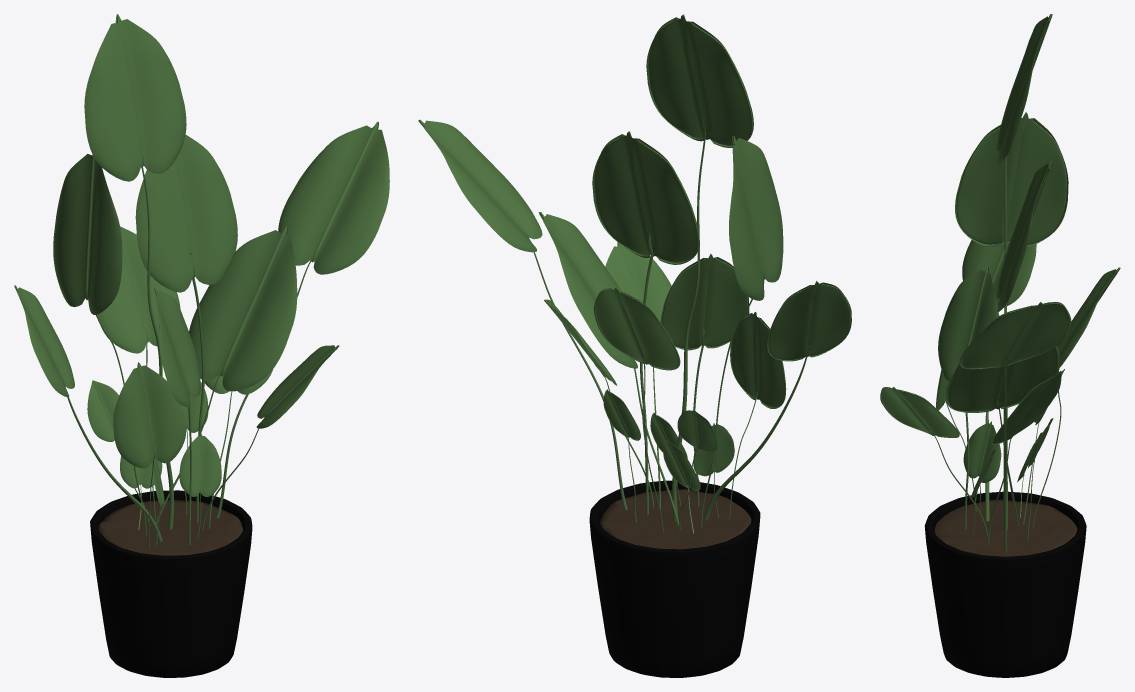
The model's file is tall_plant.fbx.
3 renders of one model, left to right at view 1: azimuth 30°, elevation 25°; view 2: azimuth 150°, elevation 25°; view 3: azimuth 270°, elevation 25°, orthographic. The views are drawn at different scales.
Visible parts, largest first — view 1: polySurface35; view 2: polySurface35; view 3: polySurface35.
Part boxes in pixels (<box>): polySurface35: <box>14,14,389,677</box>; polySurface35: <box>418,14,851,677</box>; polySurface35: <box>880,14,1120,677</box>.
Bounding box in the file's own units: 2.05 × 3.25 × 1.14.
